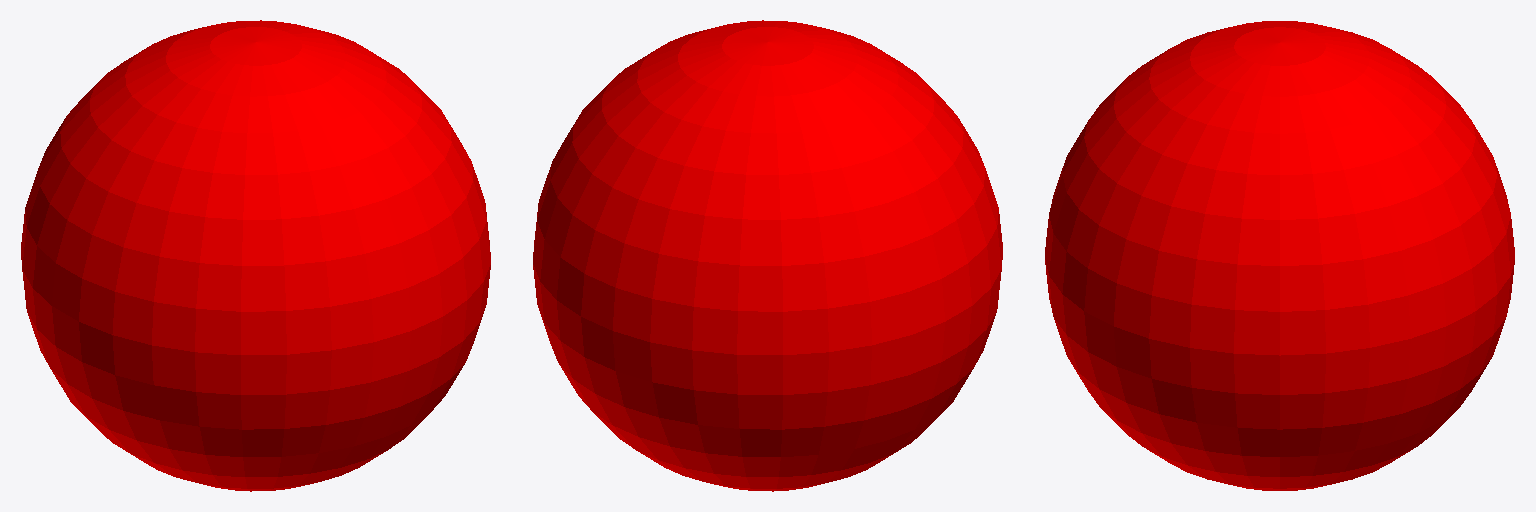
robot.urdf — panda:
<?xml version="1.0" ?>
<!-- =================================================================================== -->
<!-- |    This document was autogenerated by xacro from panda_arm_hand.urdf.xacro      | -->
<!-- |    EDITING THIS FILE BY HAND IS NOT RECOMMENDED                                 | -->
<!-- =================================================================================== -->
<robot name="panda" xmlns:xacro="http://www.ros.org/wiki/xacro">
  <link name="panda_link0">
  	<inertial>
      <origin rpy="0 0 0" xyz="0 0 0.05"/>
       <mass value="2.9"/>
       <inertia ixx="0.1" ixy="0" ixz="0" iyy="0.1" iyz="0" izz="0.1"/>
    </inertial>
    <visual>
      <geometry>
        <mesh filename="package://meshes/collision/link0.obj"/>
      </geometry>
      <material name="panda_white">
    		<color rgba="1. 1. 1. 1."/>
  		</material>
    </visual>
    <collision>
      <geometry>
        <mesh filename="package://meshes/collision/link0.obj"/>
      </geometry>
      <material name="panda_white"/>
    </collision>
  </link>
  <link name="panda_link1">
  	<inertial>
      <origin rpy="0 0 0" xyz="0 -0.04 -0.05"/>
       <mass value="2.7"/>
       <inertia ixx="0.1" ixy="0" ixz="0" iyy="0.1" iyz="0" izz="0.1"/>
    </inertial>
    <visual>
      <geometry>
        <mesh filename="package://meshes/visual/link1.obj"/>
      </geometry>
      <material name="panda_white"/>
    </visual>
    <collision>
      <geometry>
        <mesh filename="package://meshes/collision/link1.obj"/>
      </geometry>
      <material name="panda_white"/>
    </collision>
  </link>
  <joint name="panda_joint1" type="revolute">
    <safety_controller k_position="100.0" k_velocity="40.0" soft_lower_limit="-2.8973" soft_upper_limit="2.8973"/>
    <origin rpy="0 0 0" xyz="0 0 0.333"/>
    <parent link="panda_link0"/>
    <child link="panda_link1"/>
    <axis xyz="0 0 1"/>
    <limit effort="87" lower="-2.9671" upper="2.9671" velocity="2.1750"/>
  </joint>
  <link name="panda_link2">
  	<inertial>
      <origin rpy="0 0 0" xyz="0 -0.04 0.06"/>
       <mass value="2.73"/>
       <inertia ixx="0.1" ixy="0" ixz="0" iyy="0.1" iyz="0" izz="0.1"/>
    </inertial>
    <visual>
      <geometry>
        <mesh filename="package://meshes/visual/link2.obj"/>
      </geometry>
      <material name="panda_white"/>
    </visual>
    <collision>
      <geometry>
        <mesh filename="package://meshes/collision/link2.obj"/>
      </geometry>
      <material name="panda_white"/>
    </collision>
  </link>
  <joint name="panda_joint2" type="revolute">
    <safety_controller k_position="100.0" k_velocity="40.0" soft_lower_limit="-1.7628" soft_upper_limit="1.7628"/>
    <origin rpy="-1.57079632679 0 0" xyz="0 0 0"/>
    <parent link="panda_link1"/>
    <child link="panda_link2"/>
    <axis xyz="0 0 1"/>
    <limit effort="87" lower="-1.8326" upper="1.8326" velocity="2.1750"/>
  </joint>
  <link name="panda_link3">
	  <inertial>
      <origin rpy="0 0 0" xyz="0.01 0.01 -0.05"/>
       <mass value="2.04"/>
       <inertia ixx="0.1" ixy="0" ixz="0" iyy="0.1" iyz="0" izz="0.1"/>
    </inertial>
    <visual>
      <geometry>
        <mesh filename="package://meshes/visual/link3.obj"/>
      </geometry>
      <material name="panda_red">
    		<color rgba="1. 1. 1. 1."/>
  		</material>
    </visual>
    <collision>
      <geometry>
        <mesh filename="package://meshes/collision/link3.obj"/>
      </geometry>
    </collision>
  </link>
  <joint name="panda_joint3" type="revolute">
    <safety_controller k_position="100.0" k_velocity="40.0" soft_lower_limit="-2.8973" soft_upper_limit="2.8973"/>
    <origin rpy="1.57079632679 0 0" xyz="0 -0.316 0"/>
    <parent link="panda_link2"/>
    <child link="panda_link3"/>
    <axis xyz="0 0 1"/>
    <limit effort="87" lower="-2.9671" upper="2.9671" velocity="2.1750"/>
  </joint>
  <link name="panda_link4">
  	<inertial>
      <origin rpy="0 0 0" xyz="-0.03 0.03 0.02"/>
       <mass value="2.08"/>
       <inertia ixx="0.1" ixy="0" ixz="0" iyy="0.1" iyz="0" izz="0.1"/>
    </inertial>
    <visual>
      <geometry>
        <mesh filename="package://meshes/visual/link4.obj"/>
      </geometry>
      <material name="panda_white"/>
    </visual>
    <collision>
      <geometry>
        <mesh filename="package://meshes/collision/link4.obj"/>
      </geometry>
      <material name="panda_white"/>
    </collision>
  </link>
  <joint name="panda_joint4" type="revolute">
    <safety_controller k_position="100.0" k_velocity="40.0" soft_lower_limit="-3.0718" soft_upper_limit="-0.0698"/>
    <origin rpy="1.57079632679 0 0" xyz="0.0825 0 0"/>
    <parent link="panda_link3"/>
    <child link="panda_link4"/>
    <axis xyz="0 0 1"/>
    <limit effort="87" lower="-3.1416" upper="0.0" velocity="2.1750"/>
  </joint>
  <link name="panda_link5">
  	<inertial>
      <origin rpy="0 0 0" xyz="0 0.04 -0.12"/>
       <mass value="3"/>
       <inertia ixx="0.1" ixy="0" ixz="0" iyy="0.1" iyz="0" izz="0.1"/>
    </inertial>
    <visual>
      <geometry>
        <mesh filename="package://meshes/visual/link5.obj"/>
      </geometry>
      <material name="panda_white"/>
    </visual>
    <collision>
      <geometry>
        <mesh filename="package://meshes/collision/link5.obj"/>
      </geometry>
      <material name="panda_white"/>
    </collision>
  </link>
  <joint name="panda_joint5" type="revolute">
    <safety_controller k_position="100.0" k_velocity="40.0" soft_lower_limit="-2.8973" soft_upper_limit="2.8973"/>
    <origin rpy="-1.57079632679 0 0" xyz="-0.0825 0.384 0"/>
    <parent link="panda_link4"/>
    <child link="panda_link5"/>
    <axis xyz="0 0 1"/>
    <limit effort="12" lower="-2.9671" upper="2.9671" velocity="2.6100"/>
  </joint>
  <link name="panda_link6">
  	<inertial>
      <origin rpy="0 0 0" xyz="0.04 0 0"/>
       <mass value="1.3"/>
       <inertia ixx="0.1" ixy="0" ixz="0" iyy="0.1" iyz="0" izz="0.1"/>
    </inertial>
    <visual>
      <geometry>
        <mesh filename="package://meshes/visual/link6.obj"/>
      </geometry>
      <material name="panda_white"/>
    </visual>
    <collision>
      <geometry>
        <mesh filename="package://meshes/collision/link6.obj"/>
      </geometry>
      <material name="panda_white"/>
    </collision>
  </link>
  <joint name="panda_joint6" type="revolute">
    <safety_controller k_position="100.0" k_velocity="40.0" soft_lower_limit="-0.0175" soft_upper_limit="3.7525"/>
    <origin rpy="1.57079632679 0 0" xyz="0 0 0"/>
    <parent link="panda_link5"/>
    <child link="panda_link6"/>
    <axis xyz="0 0 1"/>
    <limit effort="12" lower="-0.0873" upper="3.8223" velocity="2.6100"/>
  </joint>
  <link name="panda_link7">
  	<inertial>
      <origin rpy="0 0 0" xyz="0 0 0.08"/>
       <mass value=".2"/>
       <inertia ixx="0.1" ixy="0" ixz="0" iyy="0.1" iyz="0" izz="0.1"/>
    </inertial>
    <visual>
      <geometry>
        <mesh filename="package://meshes/collision/link7.obj"/>
      </geometry>
      <material name="panda_white"/>
    </visual>
    <collision>
      <geometry>
        <mesh filename="package://meshes/collision/link7.obj"/>
      </geometry>
      <material name="panda_white"/>
    </collision>
  </link>
  <joint name="panda_joint7" type="revolute">
    <safety_controller k_position="100.0" k_velocity="40.0" soft_lower_limit="-2.8973" soft_upper_limit="2.8973"/>
    <origin rpy="1.57079632679 0 0" xyz="0.088 0 0"/>
    <parent link="panda_link6"/>
    <child link="panda_link7"/>
    <axis xyz="0 0 1"/>
    <limit effort="12" lower="-2.9671" upper="2.9671" velocity="2.6100"/>
  </joint>
  <link name="panda_link8">
  	 <inertial>
      <origin rpy="0 0 0" xyz="0 0 0"/>
       <mass value="0.0"/>
       <inertia ixx="0.1" ixy="0" ixz="0" iyy="0.1" iyz="0" izz="0.1"/>
    </inertial>
  </link>
  <joint name="panda_joint8" type="fixed">
    <origin rpy="0 0 0" xyz="0 0 0.107"/>
    <parent link="panda_link7"/>
    <child link="panda_link8"/>
    <axis xyz="0 0 0"/>
  </joint>
  <joint name="panda_hand_joint" type="fixed">
    <parent link="panda_link8"/>
    <child link="panda_hand"/>
    <origin rpy="0 0 -0.785398163397" xyz="0 0 0"/>
  </joint>
  <link name="panda_hand">
  	<inertial>
      <origin rpy="0 0 0" xyz="0 0 0.04"/>
       <mass value=".81"/>
       <inertia ixx="0.1" ixy="0" ixz="0" iyy="0.1" iyz="0" izz="0.1"/>
    </inertial>
    <visual>
      <geometry>
        <mesh filename="package://meshes/visual/hand.obj"/>
      </geometry>
      <material name="panda_white"/>
    </visual>
    <collision>
      <geometry>
        <mesh filename="package://meshes/collision/hand.obj"/>
      </geometry>
      <material name="panda_white"/>
    </collision>
  </link>
  <link name="panda_leftfinger">
       <contact>
      <friction_anchor/>
      <stiffness value="30000.0"/>
      <damping value="1000.0"/>
      <spinning_friction value="0.1"/>
      <lateral_friction value="1.0"/>
    </contact>
  	<inertial>
      <origin rpy="0 0 0" xyz="0 0.01 0.02"/>
       <mass value="0.1"/>
       <inertia ixx="0.1" ixy="0" ixz="0" iyy="0.1" iyz="0" izz="0.1"/>
    </inertial>
    <visual>
      <geometry>
        <mesh filename="package://meshes/visual/finger.obj"/>
      </geometry>
      <material name="panda_white"/>
    </visual>
    <collision>
      <geometry>
        <mesh filename="package://meshes/collision/finger.obj"/>
      </geometry>
      <material name="panda_white"/>
    </collision>
  </link>
  <link name="panda_rightfinger">
        <contact>
      <friction_anchor/>
      <stiffness value="30000.0"/>
      <damping value="1000.0"/>
      <spinning_friction value="0.1"/>
      <lateral_friction value="1.0"/>
    </contact>

  	<inertial>
      <origin rpy="0 0 0" xyz="0 -0.01 0.02"/>
       <mass value="0.1"/>
       <inertia ixx="0.1" ixy="0" ixz="0" iyy="0.1" iyz="0" izz="0.1"/>
    </inertial>
    <visual>
      <origin rpy="0 0 3.14159265359" xyz="0 0 0"/>
      <geometry>
        <mesh filename="package://meshes/visual/finger.obj"/>
      </geometry>
      <material name="panda_white"/>
    </visual>
    <collision>
      <origin rpy="0 0 3.14159265359" xyz="0 0 0"/>
      <geometry>
        <mesh filename="package://meshes/collision/finger.obj"/>
      </geometry>
      <material name="panda_white"/>
    </collision>
  </link>
  <joint name="panda_finger_joint1" type="prismatic">
    <parent link="panda_hand"/>
    <child link="panda_leftfinger"/>
    <origin rpy="0 0 0" xyz="0 0 0.0584"/>
    <axis xyz="0 1 0"/>
    <limit effort="20" lower="0.0" upper="0.04" velocity="0.2"/>
  </joint>
  <joint name="panda_finger_joint2" type="prismatic">
    <parent link="panda_hand"/>
    <child link="panda_rightfinger"/>
    <origin rpy="0 0 0" xyz="0 0 0.0584"/>
    <axis xyz="0 -1 0"/>
    <limit effort="20" lower="0.0" upper="0.04" velocity="0.2"/>
    <mimic joint="panda_finger_joint1"/>
  </joint>
   <link name="panda_grasptarget">
 <inertial>
      <origin rpy="0 0 0" xyz="0 0 0"/>
       <mass value="0.0"/>
       <inertia ixx="0.1" ixy="0" ixz="0" iyy="0.1" iyz="0" izz="0.1"/>
 </inertial>
 <visual>
   <origin rpy="0 0 0" xyz="0 0 0"/>
 <geometry>
   <sphere radius="0.01"/>
 </geometry>
 <material name="site">
     <color rgba="1.0 0. 0. 1.0"/>   
 </material>
 </visual>
   </link>
   <joint name="panda_grasptarget_hand" type="fixed">
    <parent link="panda_hand"/>
    <child link="panda_grasptarget"/>
    <origin rpy="0 0 0" xyz="0 0 0.105"/>
   </joint>

   
   
  <link name="arm_mount">
    <inertial>
      <origin rpy="0 0 0" xyz="0 -0.01 0.02"/>
       <mass value="0.1"/>
       <inertia ixx="0.1" ixy="0" ixz="0" iyy="0.1" iyz="0" izz="0.1"/>
    </inertial>
    <visual>
      <origin rpy="0 3.1415926 -1.57" xyz="0 0 0"/>
      <geometry>
        <mesh filename="package://meshes/arm_mount.stl"/>
      </geometry>
      <!-- <material name="panda_white"/> -->
      <material name="debug_color">
	<color rgba="0 1.0 1.0 1.0"/>
      </material>      
    </visual>
  </link>
   <joint name="panda_hand_arm_mount" type="fixed">
     <parent link="panda_grasptarget"/>
     <child link="arm_mount"/>
     <!-- <origin rpy="0 3.14159 -1.57" xyz="0.025 0 -0.068"/> -->
     <origin rpy="0 0 0" xyz="0.025 0 -0.068"/>
   </joint>

  <link name="marker_mount">
    <visual>
      <origin rpy="-1.57 3.1415926 -1.57" xyz="0 0 0"/>
      <geometry>
        <mesh filename="package://meshes/marker_mount.stl"/>
      </geometry>
      <!-- <material name="panda_white"/> -->
      <material name="debug_marker_color">
	<color rgba="1.0 0.0 1.0 1.0"/>
      </material>      
    </visual>
  </link>
   <joint name="panda_hand_marker_mount" type="fixed">
     <parent link="arm_mount"/>
     <child link="marker_mount"/>
     <origin rpy="0 0 0" xyz="0.01825 0 0.016"/>
   </joint>
   
   
   
</robot>

--- Render facts (derived) ---
3 views of the same robot in one strip: view 1: azimuth 30°, elevation 25°; view 2: azimuth 150°, elevation 25°; view 3: azimuth 270°, elevation 25° (orthographic).
Robot: panda — 15 links, 14 joints (7 revolute, 2 prismatic, 5 fixed); root link panda_link0; default pose: all joints at 0.
Visible links, largest first — view 1: panda_grasptarget; view 2: panda_grasptarget; view 3: panda_grasptarget.
Boxes of the visible links, box(x1,y1,x2,y2) form: panda_grasptarget: box(21, 20, 490, 491); panda_grasptarget: box(533, 20, 1002, 491); panda_grasptarget: box(1045, 21, 1514, 490).
Bounding box of the posed robot: 0.02 × 0.02 × 0.02 m (x, y, z).
0 mesh visuals loaded from 12 distinct referenced files (none loaded); not drawn: 13 (reference not matched to a file when rendering).